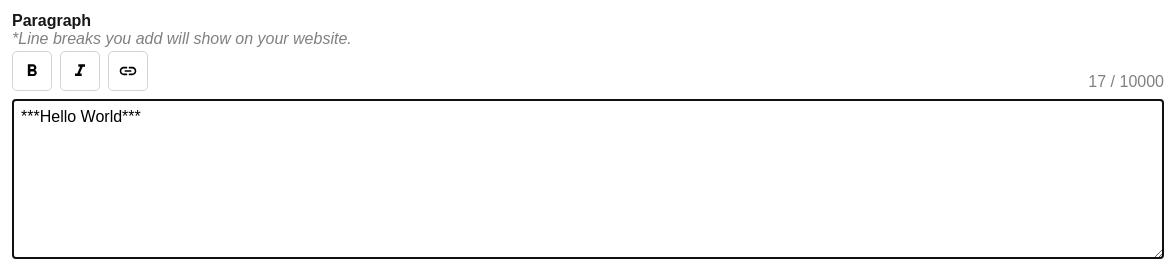
Test: ParagraphField formatting › removes Italic from bold-italic words with the cursor after their last letter
The image size is (1176, 276).
Click the button named "Italic text in paragraph 1".
click(80, 71)  # box [60,51,100,91]
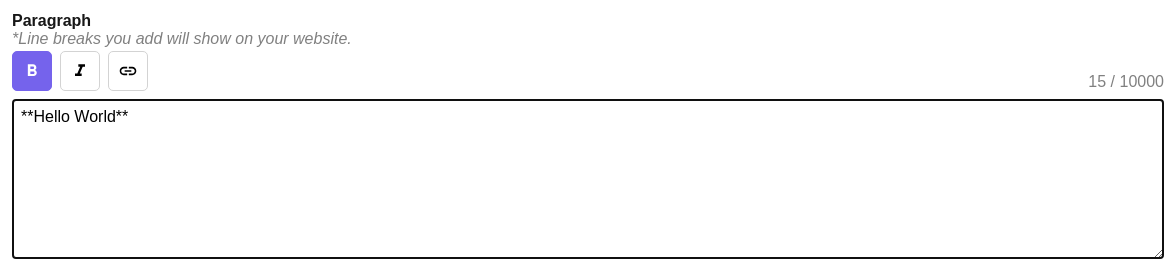
Now the text box labelled "Paragraph" holds "**Hello World**", box [12,99,1164,259]
